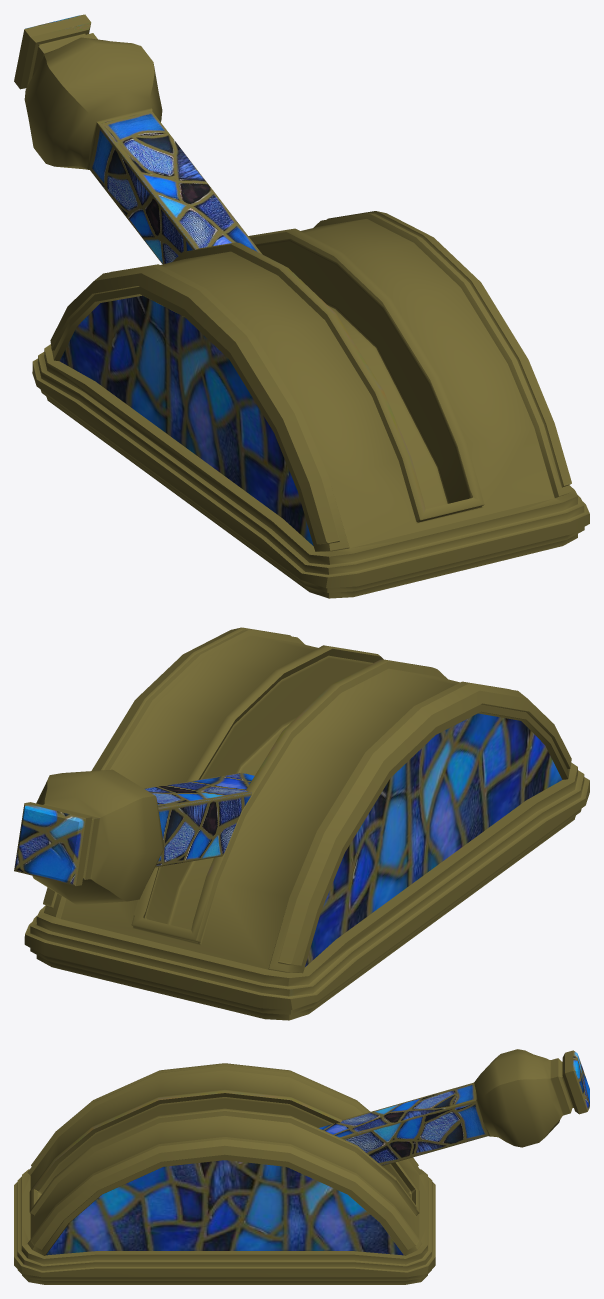
The model's file is leverWholeP3Retouch.glb.
3 renders of one model, top to bottom at view 1: azimuth 30°, elevation 25°; view 2: azimuth 150°, elevation 25°; view 3: azimuth 270°, elevation 25°, orthographic. The views are drawn at different scales.
Visible parts, largest first — view 1: Mesh_1.003, Mesh_1.001; view 2: Mesh_1.003, Mesh_1.001; view 3: Mesh_1.003, Mesh_1.001.
Part boxes in pixels (bbox=[...]): Mesh_1.003: bbox=[32, 211, 589, 598]; Mesh_1.001: bbox=[14, 14, 262, 264]; Mesh_1.003: bbox=[24, 627, 589, 1020]; Mesh_1.001: bbox=[14, 769, 254, 904]; Mesh_1.003: bbox=[14, 1063, 435, 1284]; Mesh_1.001: bbox=[319, 1049, 589, 1165].
Size of the model in its own units: 0.4998 by 0.45 by 1.27.
2 materials, 2 textured.
